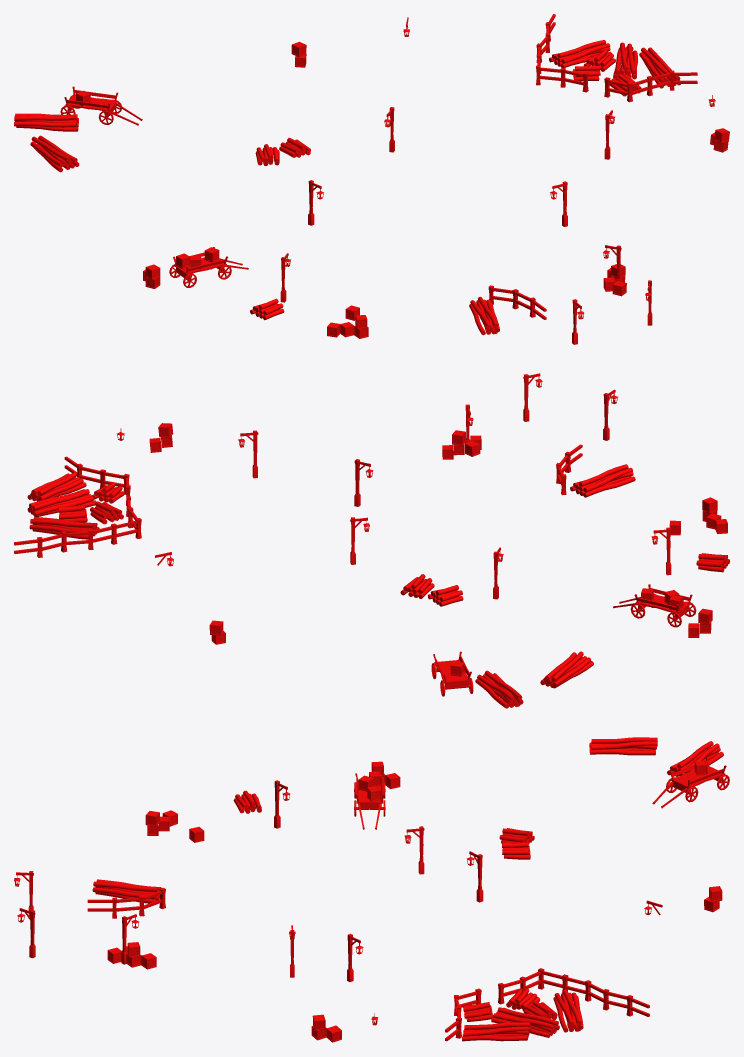
Rendered from Wood.FBX.
3 views of the same model, one above another, from view 1: azimuth 30°, elevation 25°; view 2: azimuth 150°, elevation 25°; view 3: azimuth 270°, elevation 25° (orthographic). The views are drawn at different scales.
Parts seen in each view (by area): view 1: Box100, Box142, Cylinder080, Box138, Cylinder072, Cylinder079, Cylinder075, Cylinder070, Cylinder033; view 2: Box100, Box138, Cylinder075, Cylinder033, Cylinder072, Cylinder079, Cylinder080, Box142, Cylinder070; view 3: Box100, Box142, Cylinder070, Cylinder079, Cylinder033, Cylinder075, Cylinder072, Box138, Cylinder080.
Part boxes in pixels (x1,y1,x2,y2): Box100: [536, 14, 697, 102]; Box142: [60, 86, 142, 125]; Cylinder080: [14, 113, 78, 131]; Box138: [169, 247, 248, 287]; Cylinder072: [549, 40, 611, 67]; Cylinder079: [30, 135, 79, 172]; Cylinder075: [469, 296, 499, 335]; Cylinder070: [639, 47, 680, 88]; Cylinder033: [613, 42, 637, 79]; Box100: [14, 456, 141, 557]; Box138: [613, 584, 696, 627]; Cylinder075: [570, 464, 635, 497]; Cylinder033: [27, 489, 96, 516]; Cylinder072: [29, 517, 99, 539]; Cylinder079: [540, 651, 593, 688]; Cylinder080: [475, 670, 523, 708]; Box142: [431, 651, 473, 696]; Cylinder070: [27, 472, 86, 501]; Box100: [445, 968, 649, 1041]; Box142: [652, 757, 729, 808]; Cylinder070: [462, 1022, 531, 1041]; Cylinder079: [589, 737, 657, 755]; Cylinder033: [491, 1007, 559, 1037]; Cylinder075: [92, 879, 161, 903]; Cylinder072: [553, 989, 583, 1032]; Box138: [354, 773, 385, 829]; Cylinder080: [667, 741, 723, 776].
Bounding box in the file's own units: 2640 × 335 × 2652.
